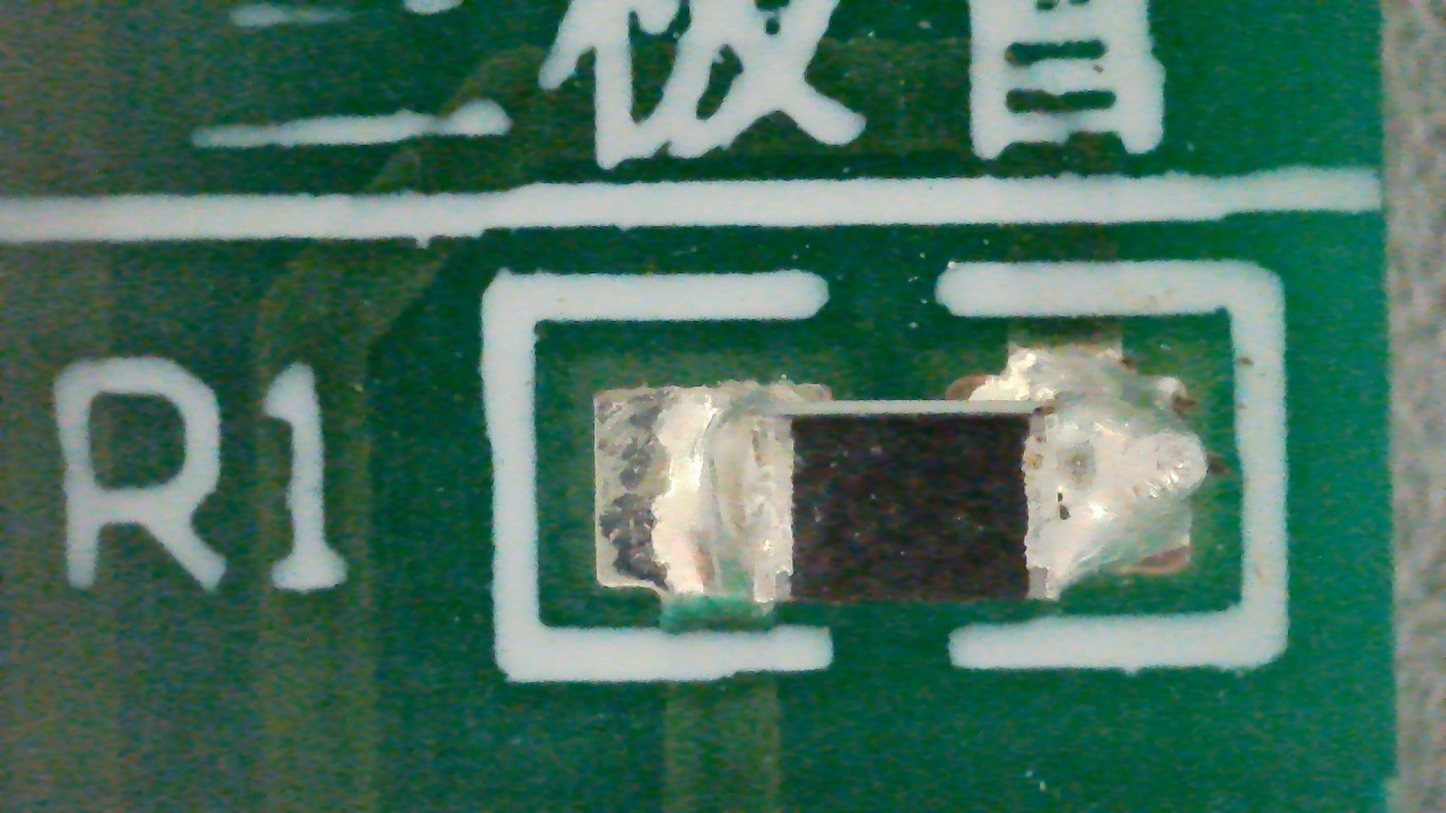OK: (594, 335, 1206, 603)
